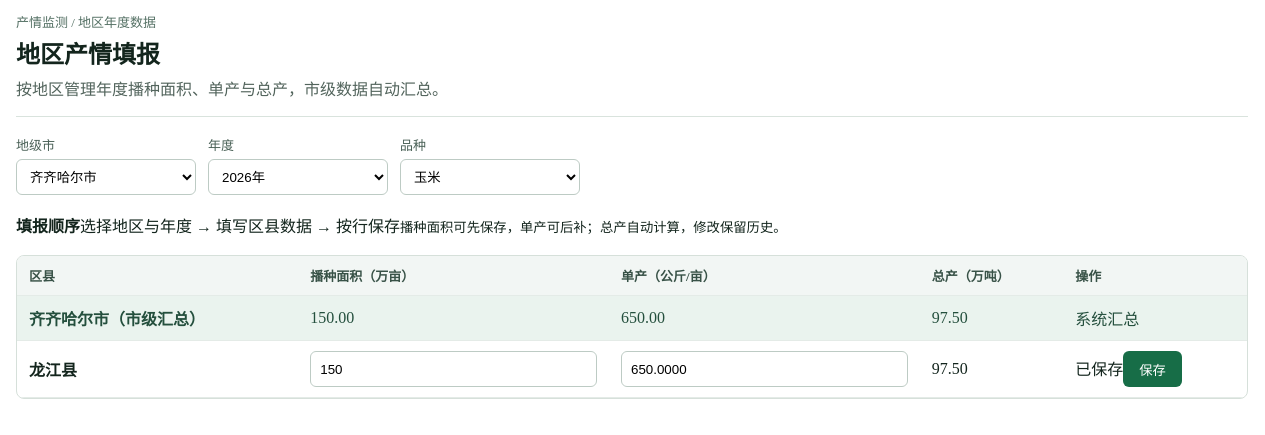
RegionalAnnualProductionWorkspace › keeps regional saving disabled when the newly selected scope fails to load
Expected: the number field showing "150" is shown, [310,351,597,387]
Select "大豆" in the dropdown named "地区产情品种" at (490, 177), box [400,159,580,195]
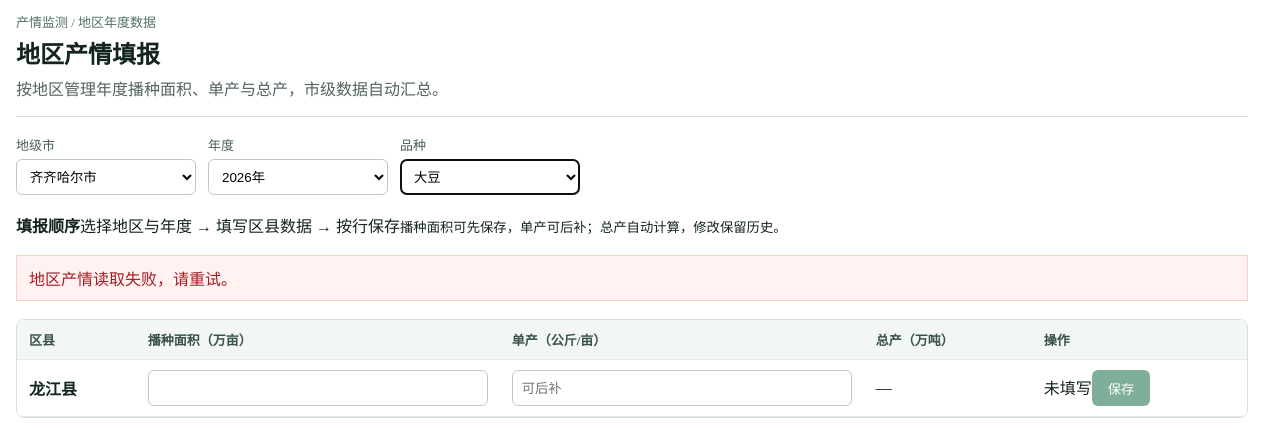
Expected: the message reads "地区产情读取失败，请重试。", [29,271,237,288]
Expected: the number field named "龙江县播种面积" is disabled, [148,370,488,406]
Expected: the button with aria-label "保存龙江县" is disabled, [1092,370,1150,406]
